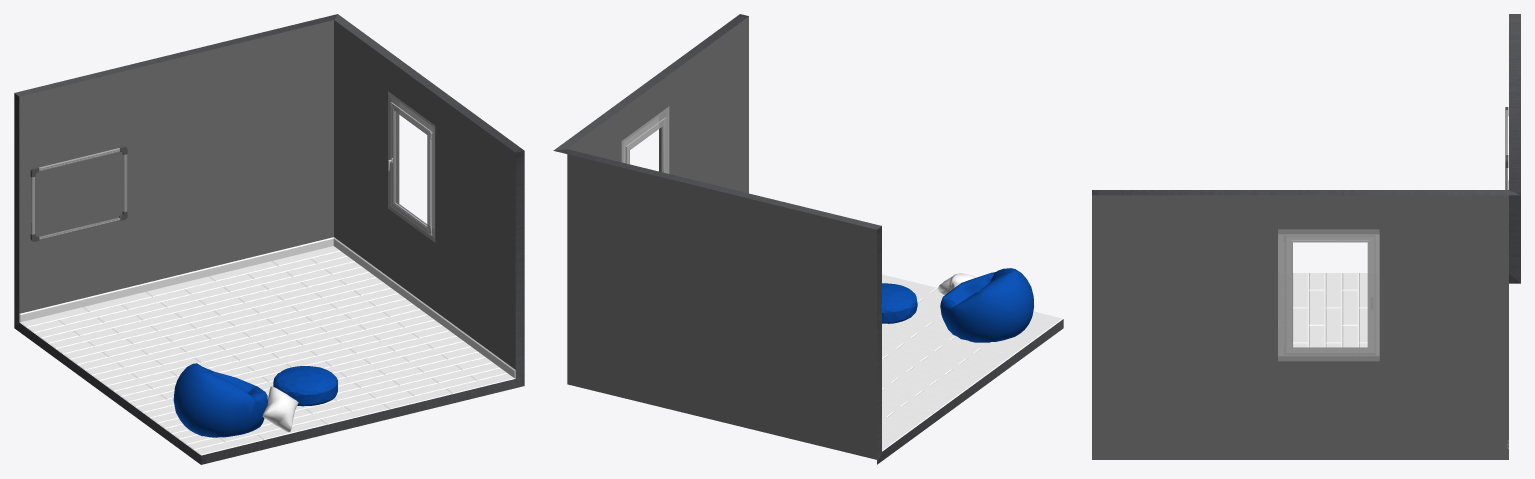
Rendered from room.glb.
3 views of the same model, side by side, from view 1: azimuth 30°, elevation 25°; view 2: azimuth 150°, elevation 25°; view 3: azimuth 270°, elevation 25° (orthographic). The views are drawn at different scales.
Parts seen in each view (by area): view 1: Wall, Floor, WhiteWalls, Sofa, LeftWallRodapie, SofaCilindrico, RigthWallRodapie, #WIN0003_Window_#WIN0003_Textures_0, #WIN0003_Frame_#WIN0003_Textures_0, Whiteboard, Pillow_1; view 2: Wall, Floor, WhiteWalls, Sofa, SofaCilindrico, #WIN0003_Frame_#WIN0003_Textures_0, #WIN0003_Window_#WIN0003_Textures_0; view 3: Wall, WhiteWalls, Floor, #WIN0003_Window_#WIN0003_Textures_0, #WIN0003_Frame_#WIN0003_Textures_0.
Boxes of the visible parts, bbox=[...] form: Wall: bbox=[19, 20, 515, 369]; Floor: bbox=[20, 246, 515, 455]; WhiteWalls: bbox=[14, 14, 524, 464]; Sofa: bbox=[173, 363, 267, 437]; LeftWallRodapie: bbox=[19, 237, 333, 322]; SofaCilindrico: bbox=[273, 366, 337, 406]; RigthWallRodapie: bbox=[333, 237, 515, 378]; #WIN0003_Window_#WIN0003_Textures_0: bbox=[390, 102, 431, 235]; #WIN0003_Frame_#WIN0003_Textures_0: bbox=[388, 91, 435, 242]; Whiteboard: bbox=[31, 148, 127, 239]; Pillow_1: bbox=[262, 386, 298, 432]; Wall: bbox=[567, 16, 876, 459]; Floor: bbox=[882, 274, 1063, 451]; WhiteWalls: bbox=[553, 14, 1063, 464]; Sofa: bbox=[940, 268, 1033, 342]; SofaCilindrico: bbox=[882, 283, 917, 323]; #WIN0003_Frame_#WIN0003_Textures_0: bbox=[621, 106, 669, 173]; #WIN0003_Window_#WIN0003_Textures_0: bbox=[625, 117, 666, 173]; Wall: bbox=[1092, 195, 1508, 459]; WhiteWalls: bbox=[1092, 14, 1520, 283]; Floor: bbox=[1293, 273, 1367, 347]; #WIN0003_Window_#WIN0003_Textures_0: bbox=[1286, 237, 1374, 353]; #WIN0003_Frame_#WIN0003_Textures_0: bbox=[1278, 234, 1379, 356].
Bounding box in the file's own units: 9.36 × 6.5 × 9.36.
8 materials, 1 textured.
